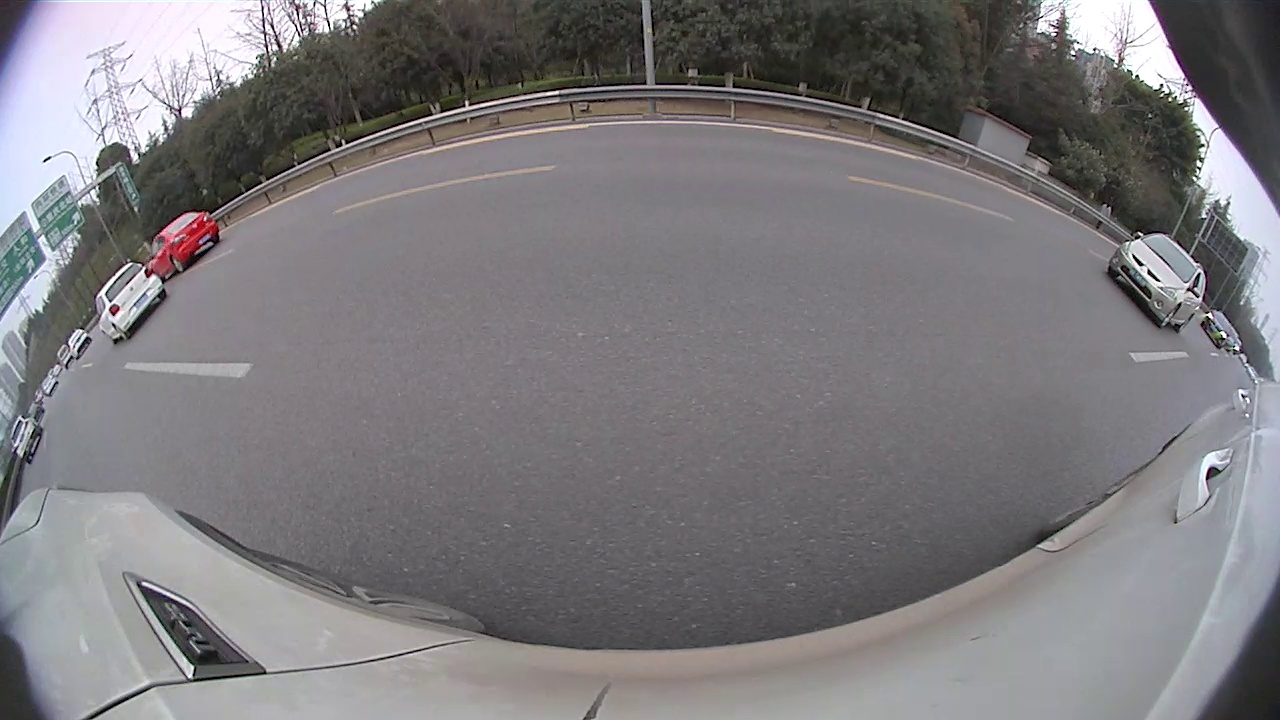car: (1106, 231, 1207, 334), (94, 261, 168, 346), (148, 210, 221, 281), (8, 412, 44, 465), (1199, 308, 1235, 349), (67, 327, 94, 361)
front: (1159, 305, 1178, 329)
rear: (171, 256, 183, 274)
